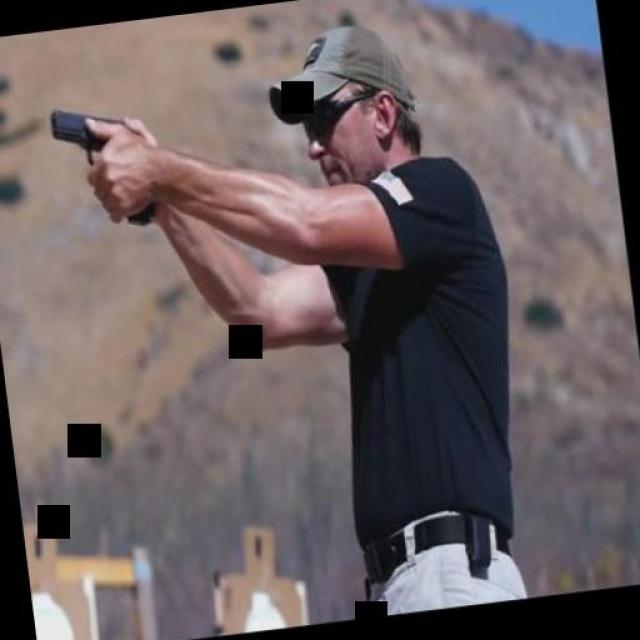gun: (41, 95, 162, 236)
